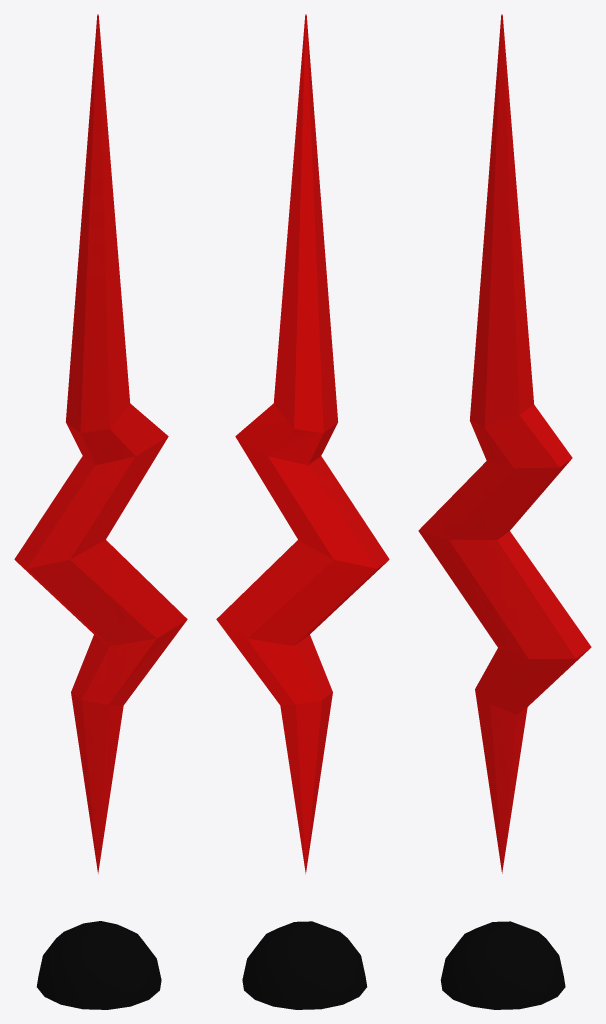
Rendered from NPC_Lightningrod_001.glb.
3 renders of one model, left to right at view 1: azimuth 30°, elevation 25°; view 2: azimuth 150°, elevation 25°; view 3: azimuth 330°, elevation 25°, orthographic.
Visible parts, largest first — view 1: NPC_Lightningrod_001_mesh; view 2: NPC_Lightningrod_001_mesh; view 3: NPC_Lightningrod_001_mesh.
Part boxes in pixels (x1,y1,x2,y2): NPC_Lightningrod_001_mesh: [14, 14, 187, 1009]; NPC_Lightningrod_001_mesh: [216, 14, 389, 1009]; NPC_Lightningrod_001_mesh: [418, 14, 591, 1009].
Bounding box in the file's own units: 0.8841 × 5.14 × 0.6057.
1 material, 1 textured.
